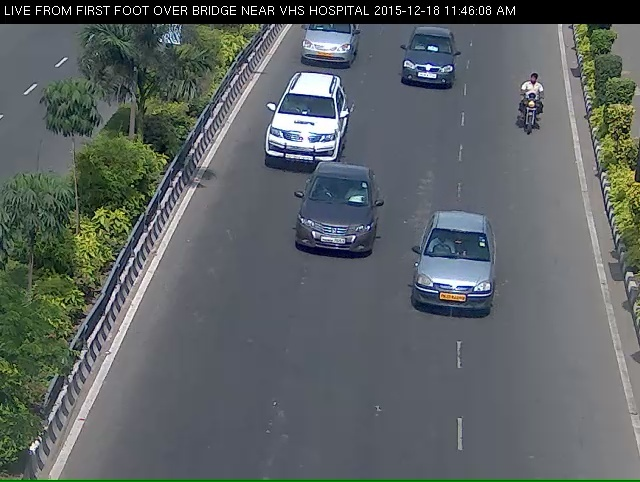Car: (253, 76, 360, 189), (410, 218, 495, 345), (289, 177, 382, 276), (399, 26, 460, 107), (297, 20, 358, 69)
Person: (517, 77, 548, 154)
